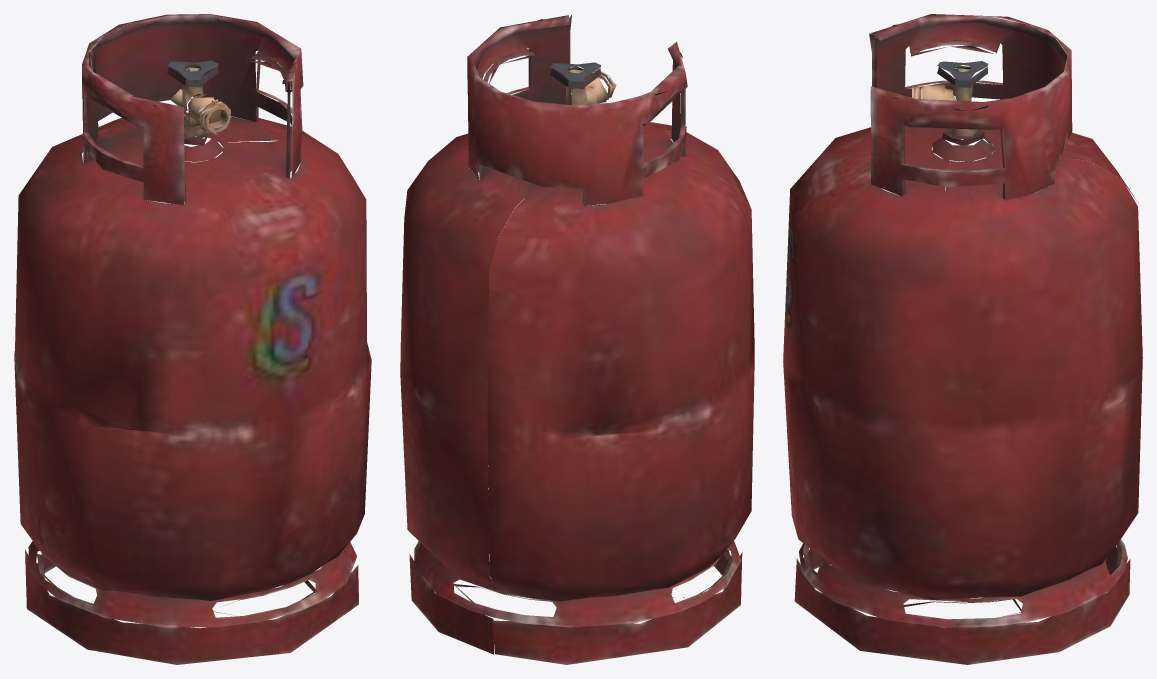
File: propane_tank.glb
3 views of the same model, side by side, from view 1: azimuth 30°, elevation 25°; view 2: azimuth 150°, elevation 25°; view 3: azimuth 270°, elevation 25° (orthographic).
Visible parts, largest first — view 1: propane_tank; view 2: propane_tank; view 3: propane_tank.
Part boxes in pixels (x1=…): propane_tank: x1=14, y1=14, x2=371, y2=664; propane_tank: x1=400, y1=15, x2=754, y2=664; propane_tank: x1=783, y1=14, x2=1142, y2=664.
Size of the model in its own units: 0.335 by 0.5539 by 0.337.
1 material, 1 textured.
